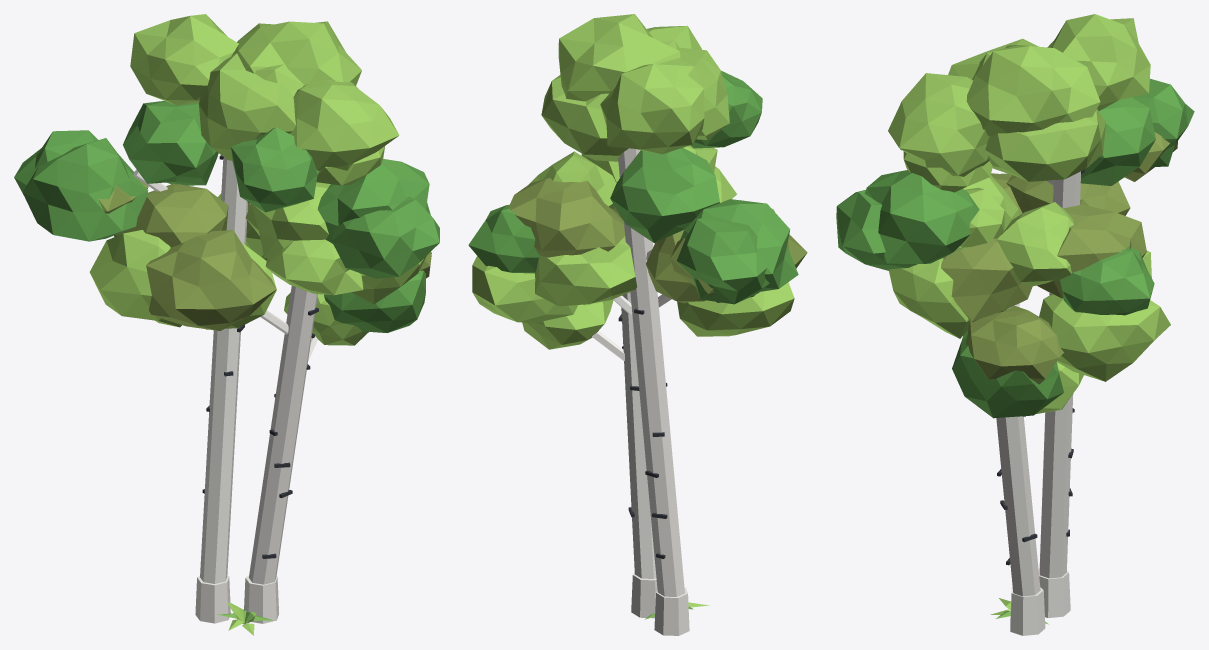
The model's file is birch_tree.glb.
The picture shows the model from 3 angles, left to right: view 1: azimuth 30°, elevation 25°; view 2: azimuth 150°, elevation 25°; view 3: azimuth 270°, elevation 25°; orthographic projection. The views are drawn at different scales.
Visible parts, largest first — view 1: Birch Tree; view 2: Birch Tree; view 3: Birch Tree.
Part boxes in pixels (x1=…): Birch Tree: x1=14, y1=14, x2=439, y2=635; Birch Tree: x1=468, y1=14, x2=807, y2=635; Birch Tree: x1=836, y1=14, x2=1194, y2=635.
Bounding box in the file's own units: 2.37 × 3.91 × 2.13.
1 material, 1 textured.
